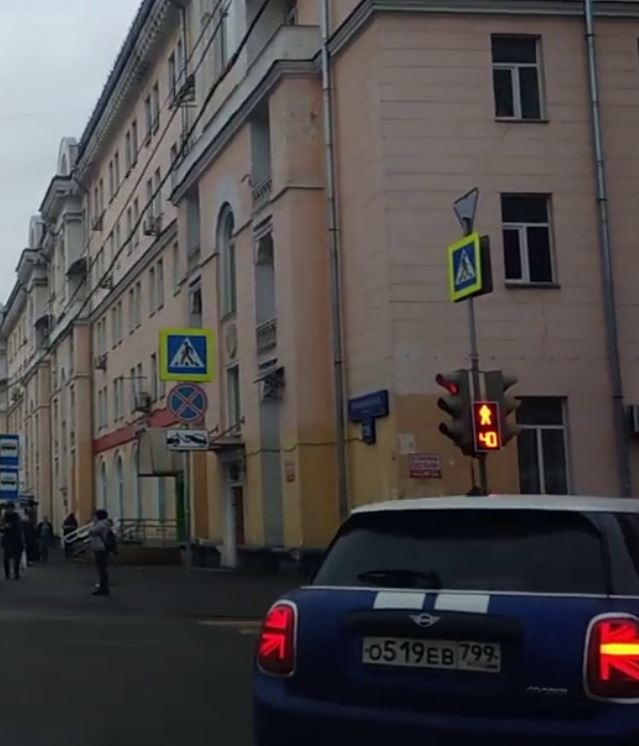Yaya Gecidi: (169, 332, 208, 375), (451, 246, 482, 284)
